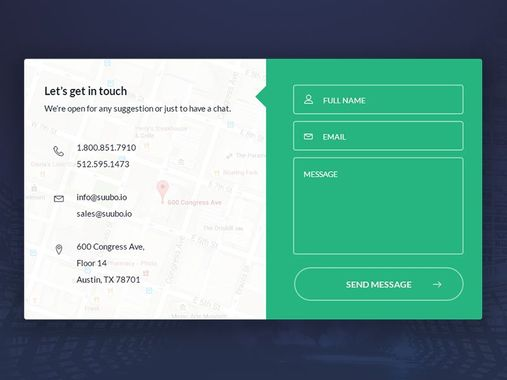_form_: (69, 1, 485, 380), (11, 44, 276, 333)
button: (291, 265, 464, 303)
field: (291, 155, 466, 257), (291, 118, 465, 152), (292, 83, 466, 115)
